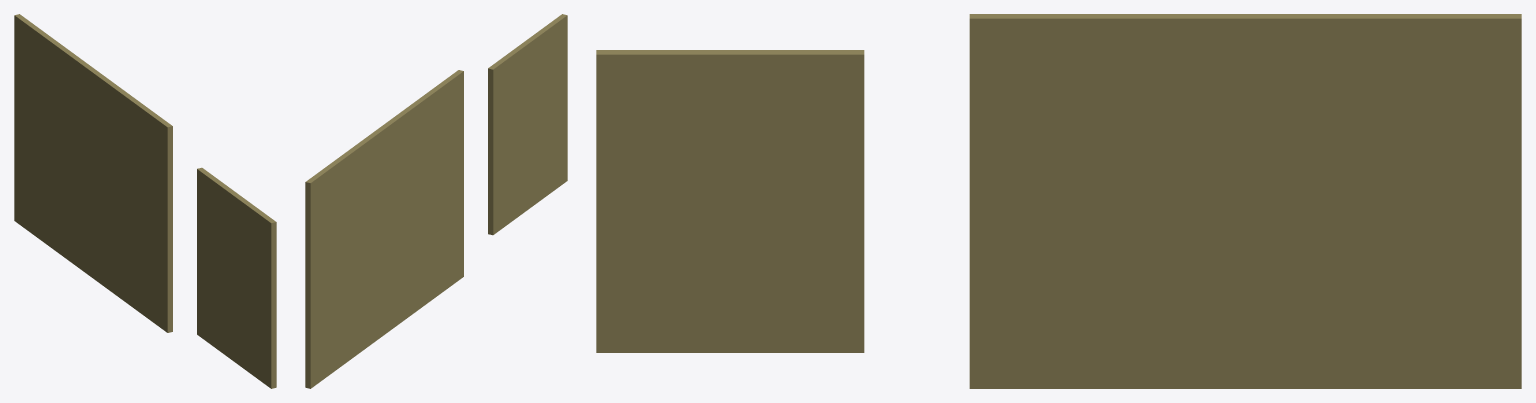
File: picture.fbx
3 renders of one model, left to right at view 1: azimuth 30°, elevation 25°; view 2: azimuth 150°, elevation 25°; view 3: azimuth 270°, elevation 25°, orthographic. The views are drawn at different scales.
Parts seen in each view (by area): view 1: Cube.005, Cube.021; view 2: Cube.005, Cube.021; view 3: Cube.005, Cube.021.
Part boxes in pixels (x1,y1,x2,y2): Cube.005: (14,14,172,332); Cube.021: (197,167,276,388); Cube.005: (305,70,463,388); Cube.021: (488,14,567,235); Cube.005: (969,14,1521,388); Cube.021: (596,50,864,352).
Bounding box in the file's own units: 3.15 × 119 × 270.
